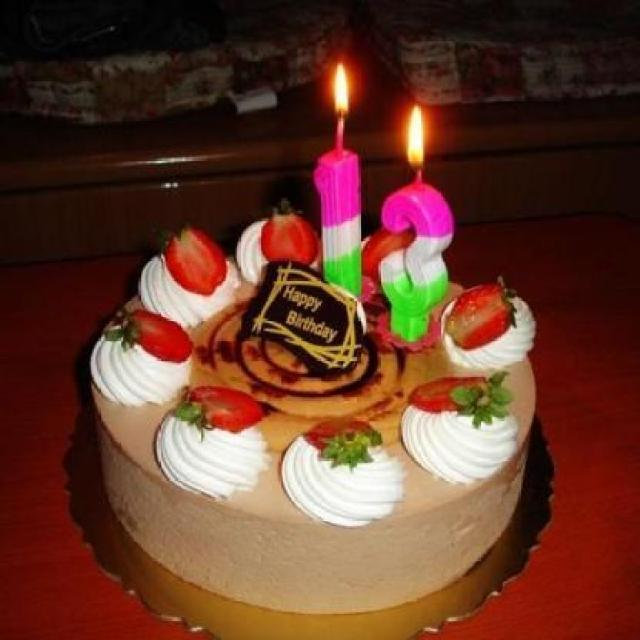Fire: (404, 104, 429, 174), (332, 61, 350, 120)
